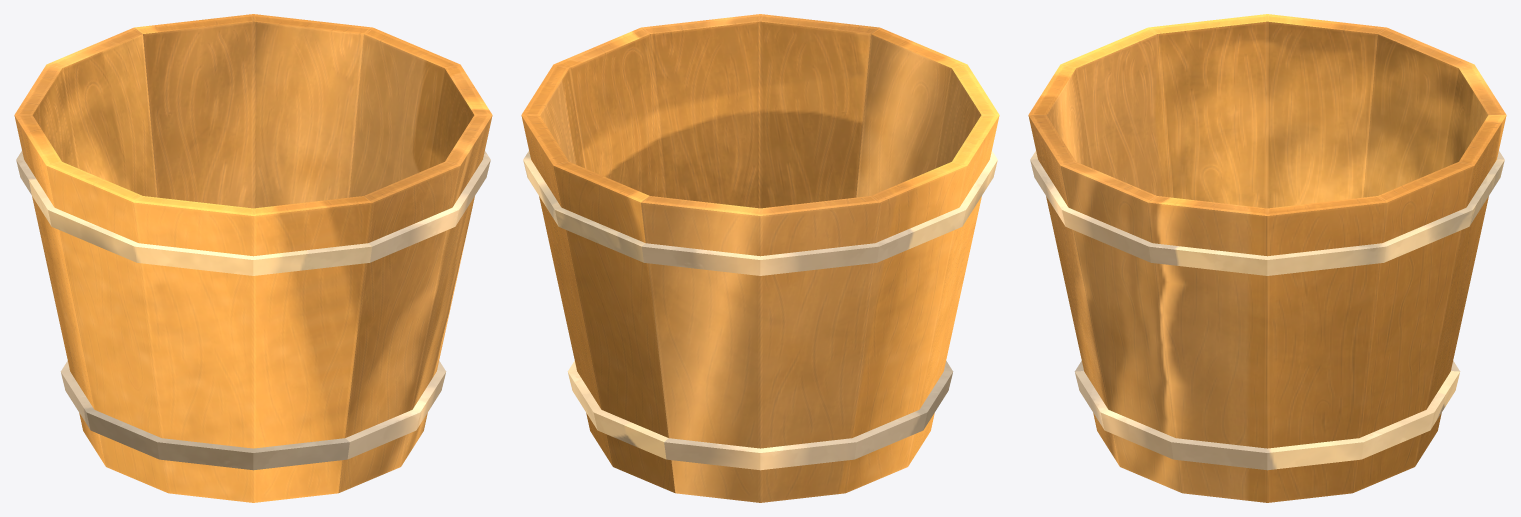
The model's file is SM_Stylized_Bucket.fbx.
3 views of the same model, side by side, from view 1: azimuth 30°, elevation 25°; view 2: azimuth 150°, elevation 25°; view 3: azimuth 270°, elevation 25° (orthographic).
Parts seen in each view (by area): view 1: SM_Stylized_Bucket_LOD0; view 2: SM_Stylized_Bucket_LOD0; view 3: SM_Stylized_Bucket_LOD0.
Boxes of the visible parts, <box> form: SM_Stylized_Bucket_LOD0: <box>14,14,492,502</box>; SM_Stylized_Bucket_LOD0: <box>521,14,999,502</box>; SM_Stylized_Bucket_LOD0: <box>1028,14,1506,502</box>.
Size of the model in its own units: 34.55 by 34.55 by 25.19.
